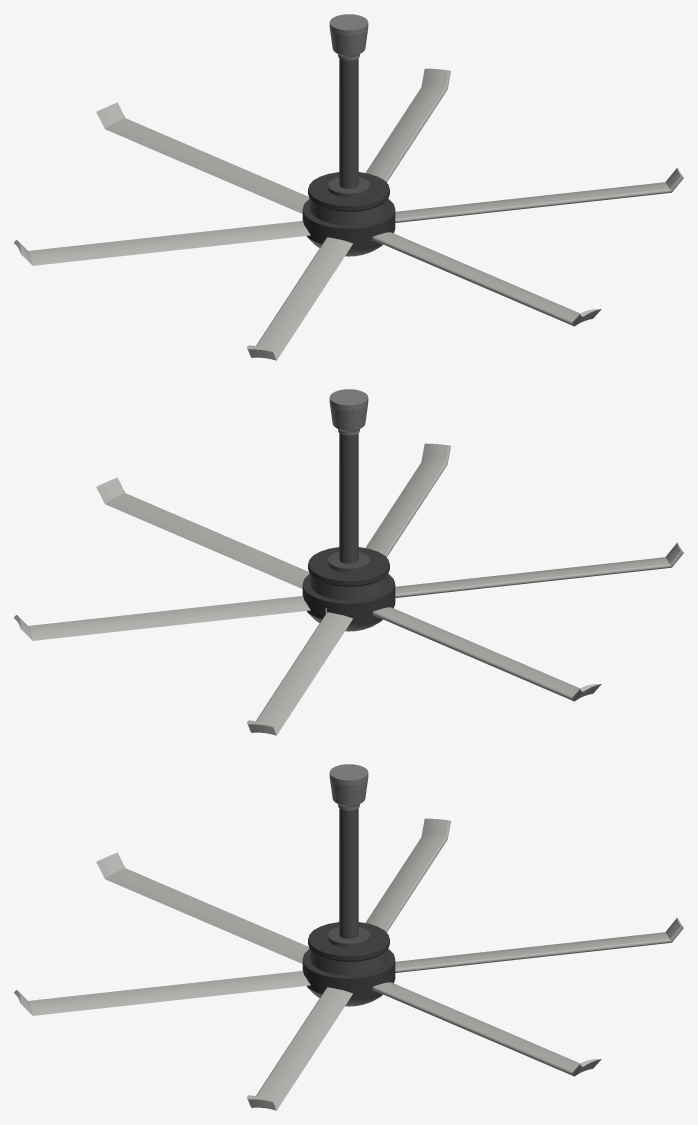
File: fan.fbx
3 views of the same model, one above another, from view 1: azimuth 30°, elevation 25°; view 2: azimuth 150°, elevation 25°; view 3: azimuth 270°, elevation 25° (orthographic).
Parts seen in each view (by area): view 1: Fan_Body1, Fan_Blade2, Fan_Blade5, Fan_Blade1, Fan_Blade4, Fan_Blade6, Fan_Blade3; view 2: Fan_Body1, Fan_Blade3, Fan_Blade4, Fan_Blade5, Fan_Blade1, Fan_Blade2, Fan_Blade6; view 3: Fan_Body1, Fan_Blade6, Fan_Blade1, Fan_Blade4, Fan_Blade5, Fan_Blade3, Fan_Blade2.
Boxes of the visible parts, bbox=[...] form: Fan_Body1: bbox=[302, 14, 395, 247]; Fan_Blade2: bbox=[14, 221, 310, 265]; Fan_Blade5: bbox=[96, 102, 309, 213]; Fan_Blade1: bbox=[247, 237, 352, 360]; Fan_Blade4: bbox=[395, 167, 683, 222]; Fan_Blade6: bbox=[372, 232, 601, 326]; Fan_Blade3: bbox=[365, 68, 450, 182]; Fan_Body1: bbox=[302, 389, 395, 622]; Fan_Blade3: bbox=[14, 596, 310, 640]; Fan_Blade4: bbox=[96, 477, 309, 588]; Fan_Blade5: bbox=[247, 612, 352, 735]; Fan_Blade1: bbox=[395, 542, 683, 597]; Fan_Blade2: bbox=[372, 607, 601, 701]; Fan_Blade6: bbox=[365, 443, 450, 557]; Fan_Body1: bbox=[302, 764, 395, 997]; Fan_Blade6: bbox=[14, 971, 310, 1015]; Fan_Blade1: bbox=[96, 852, 309, 963]; Fan_Blade4: bbox=[247, 987, 352, 1110]; Fan_Blade5: bbox=[395, 917, 683, 972]; Fan_Blade3: bbox=[372, 982, 601, 1076]; Fan_Blade2: bbox=[365, 818, 450, 932].
Bounding box in the file's own units: 167 × 62.79 × 167.
